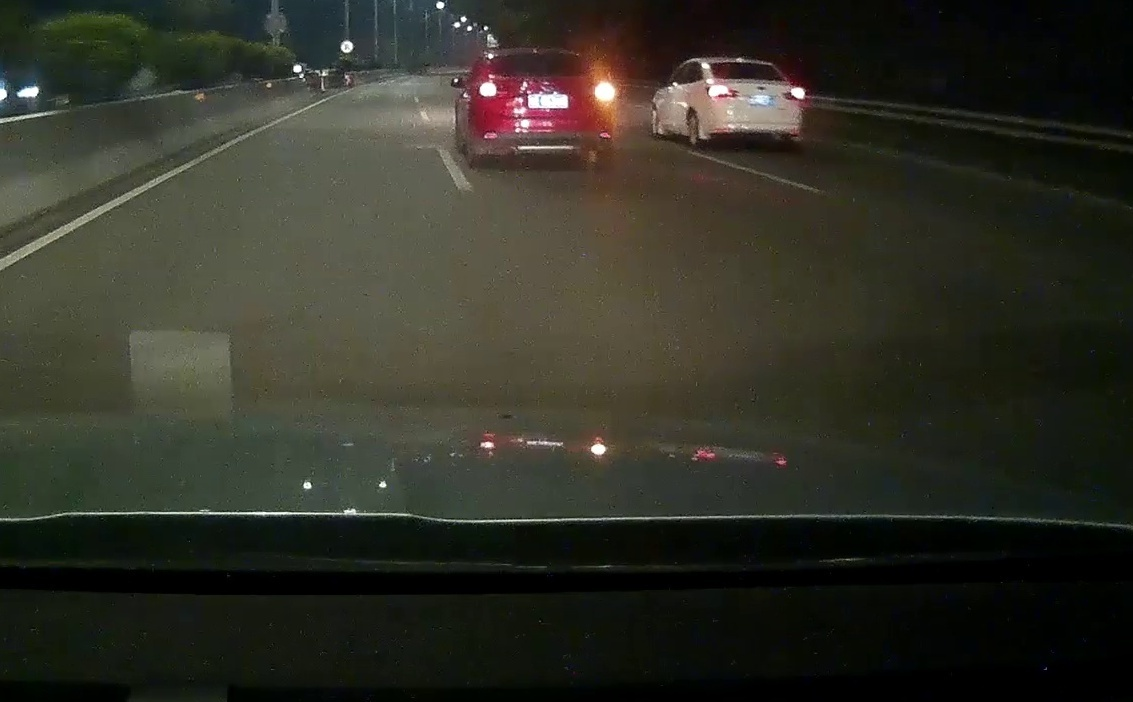L_light: (476, 80, 501, 99), (706, 86, 738, 98)
R_light: (591, 82, 614, 100), (783, 90, 804, 100)
T_light: (530, 54, 550, 59), (740, 63, 752, 66)
night-no: (702, 56, 804, 148)
night-right: (466, 46, 615, 167)
